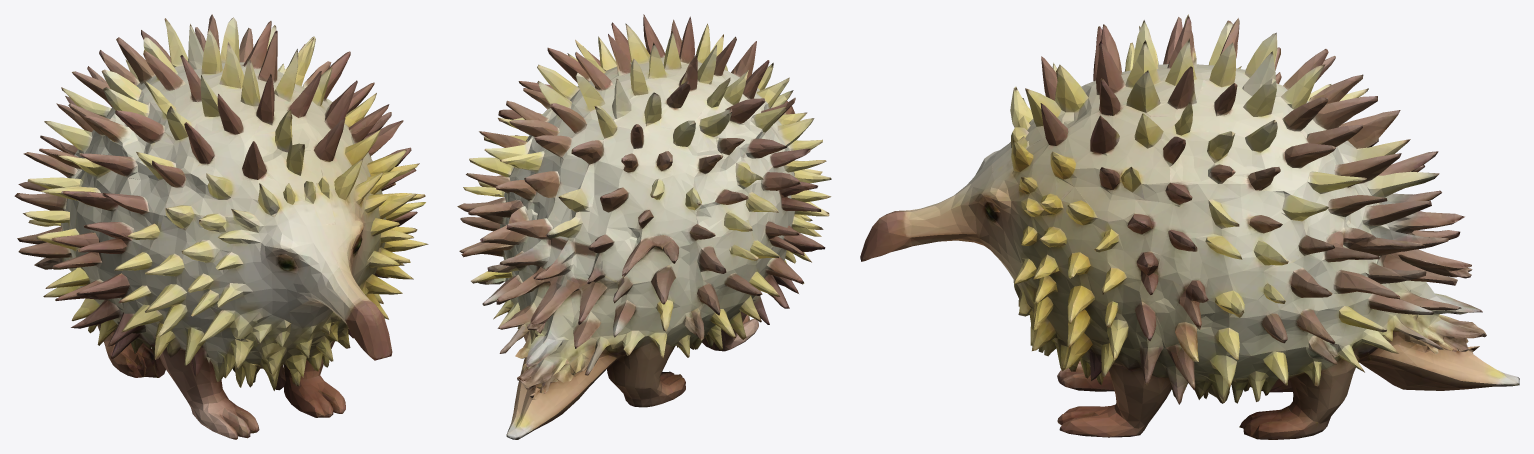
The model's file is short_beaked_echidna.glb.
The picture shows the model from 3 angles, left to right: view 1: azimuth 30°, elevation 25°; view 2: azimuth 150°, elevation 25°; view 3: azimuth 270°, elevation 25°; orthographic projection. The views are drawn at different scales.
Parts seen in each view (by area): view 1: geometry_0; view 2: geometry_0; view 3: geometry_0.
Part boxes in pixels (box(x1,y1,x2,y2)): geometry_0: box(14, 14, 428, 439); geometry_0: box(457, 14, 831, 439); geometry_0: box(860, 14, 1519, 439).
Size of the model in its own units: 0.6429 by 0.6195 by 1.
Materials: 1 (1 with a texture image).
